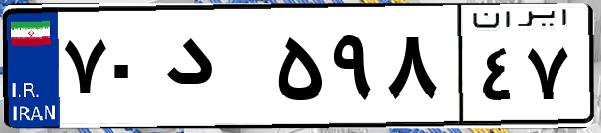0: (110, 28, 158, 98)
4: (475, 38, 525, 113)
5: (270, 28, 330, 110)
7: (57, 26, 110, 100), (525, 38, 570, 115)
8: (385, 28, 445, 110)
9: (330, 28, 385, 110)
د: (158, 20, 270, 120)
